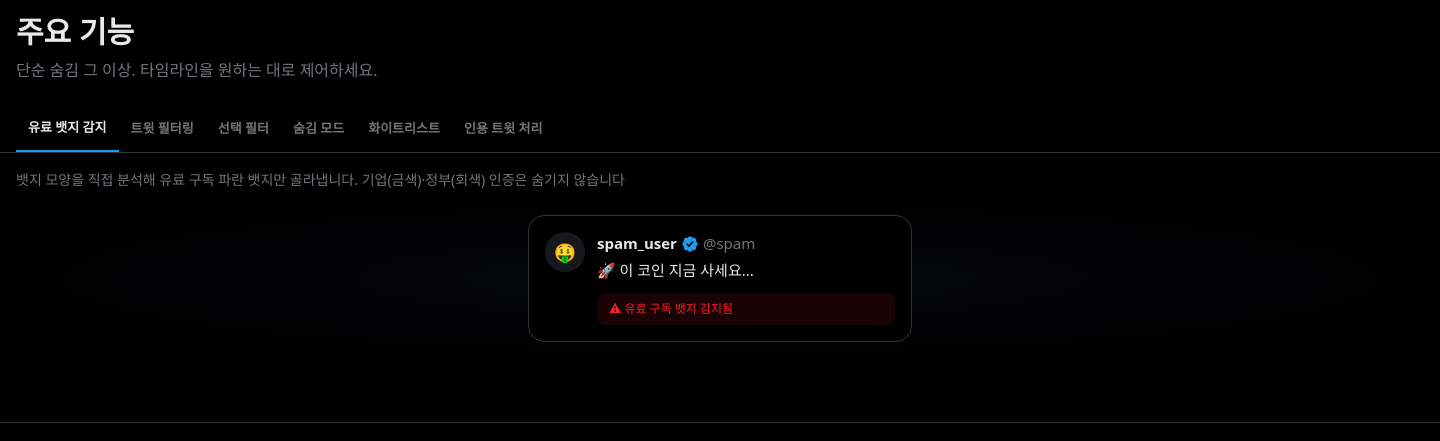
Test: Features › 숨김 모드 탭은 확장과 같은 모드 이름과 접힘 문구를 보여준다
The image size is (1440, 441).
What coordinates should you click on to do the following:
click the button "숨김 모드"
I would click on:
 (319, 129)
Its box is 281,106 -> 356,152.
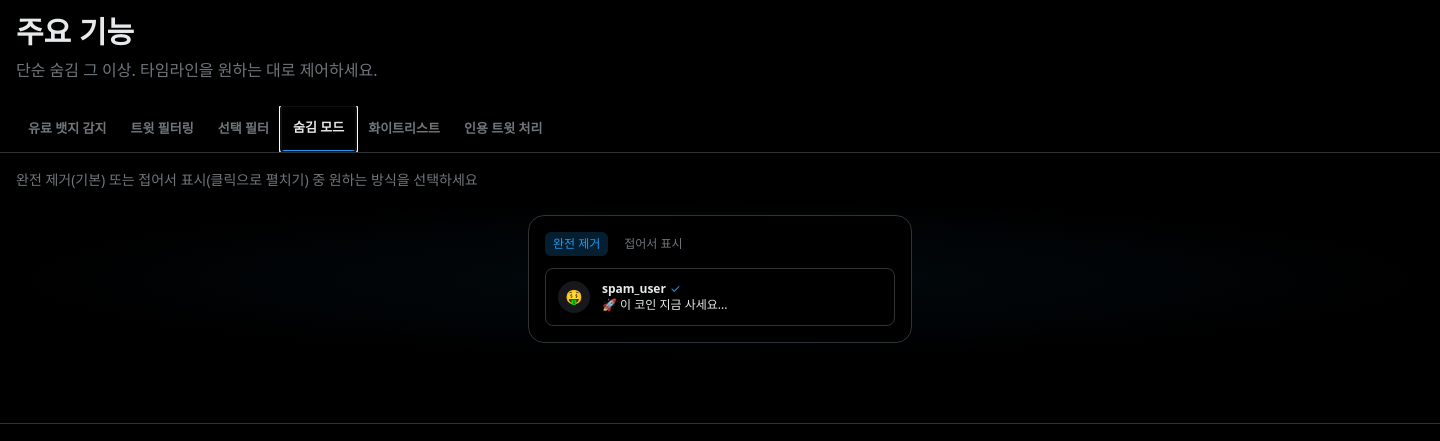
Now the text "완전 제거(기본) 또는 접어서 표시(클릭으로 펼치기) 중 원하는 방식을 선택하세요" is shown, box 16,170 -> 478,188
Now the text "완전 제거" is shown, box 545,232 -> 608,256
Now the text "접어서 표시" is shown, box 624,235 -> 683,252
